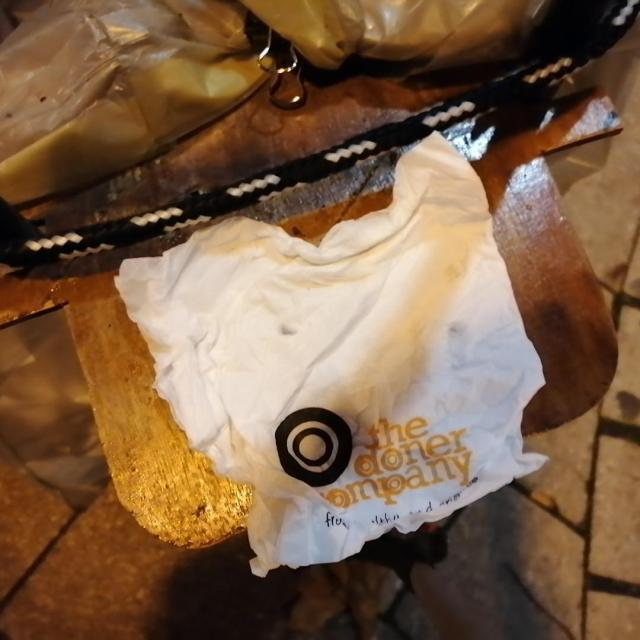Paper: (110, 128, 550, 578)
